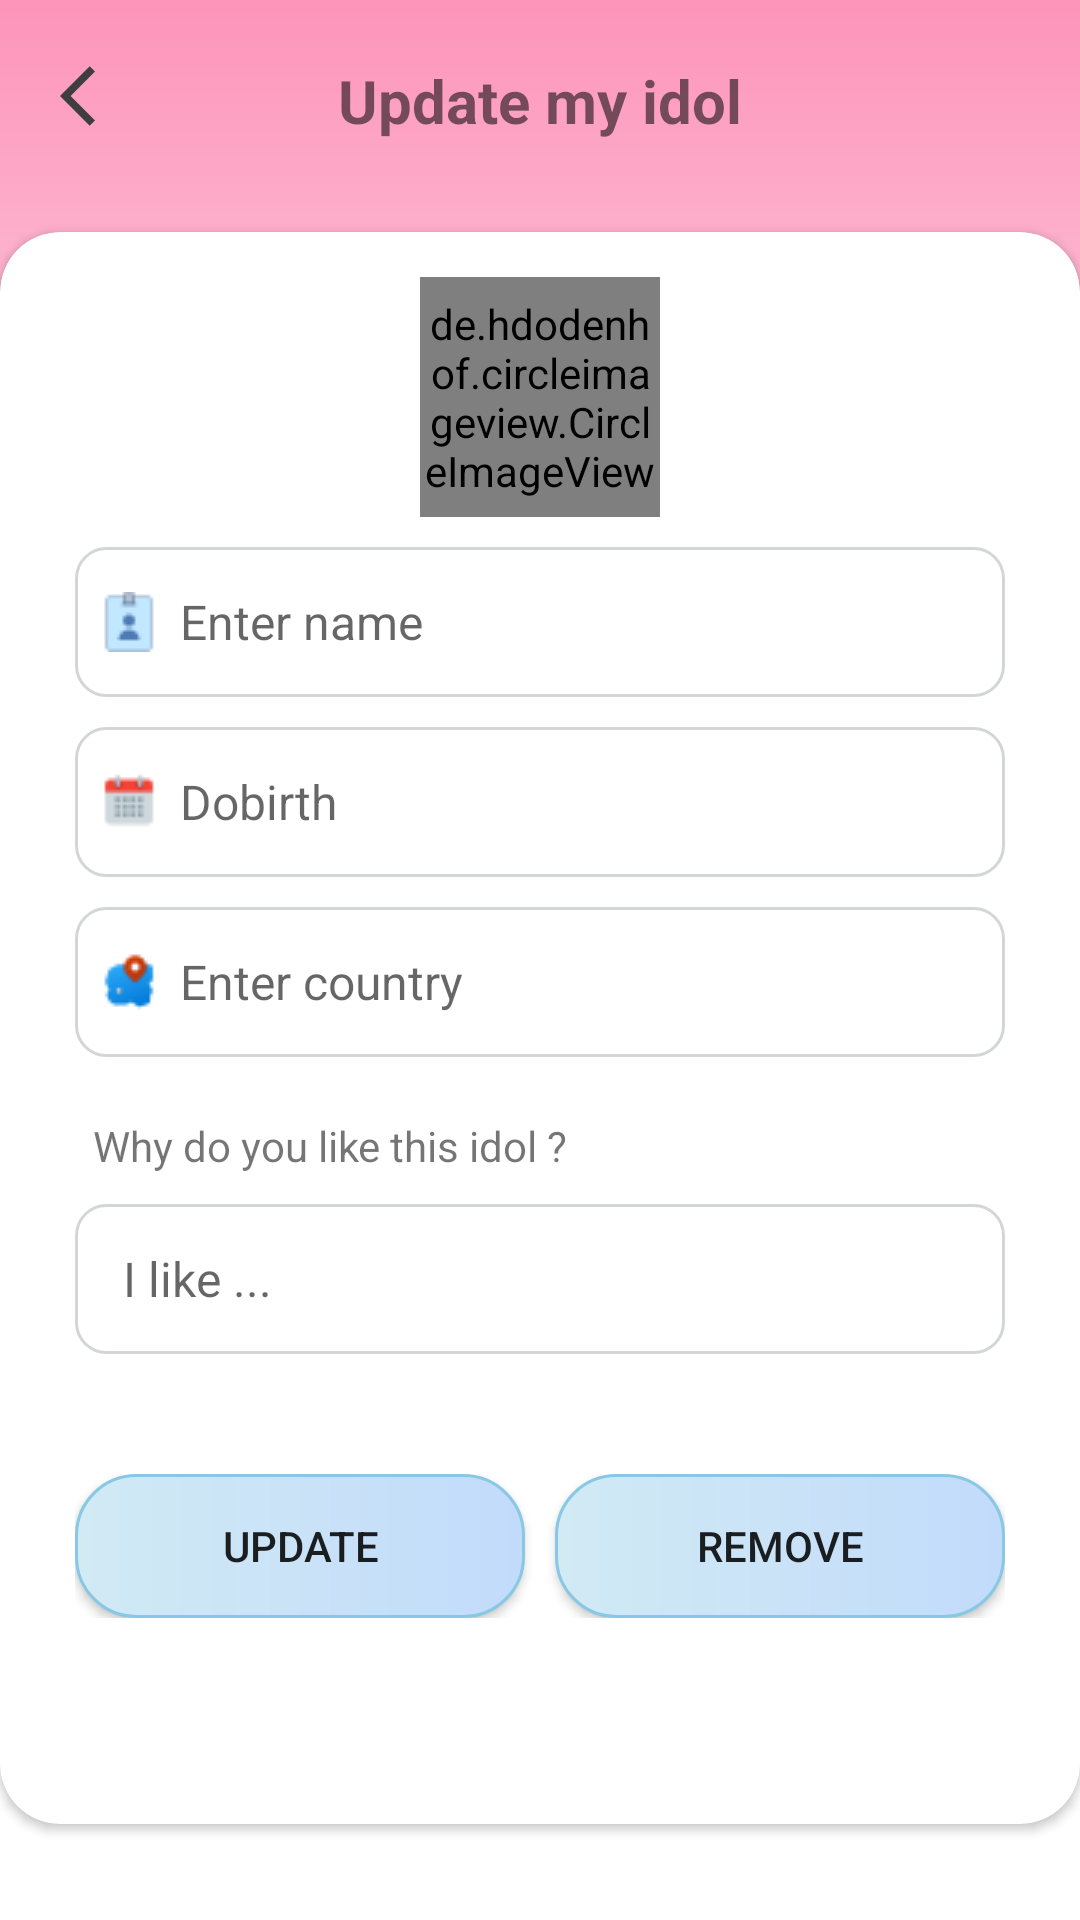

Icon click points for this 1080px×1920px phone screenshot, format (x,y):
arrow back: (77,96)
